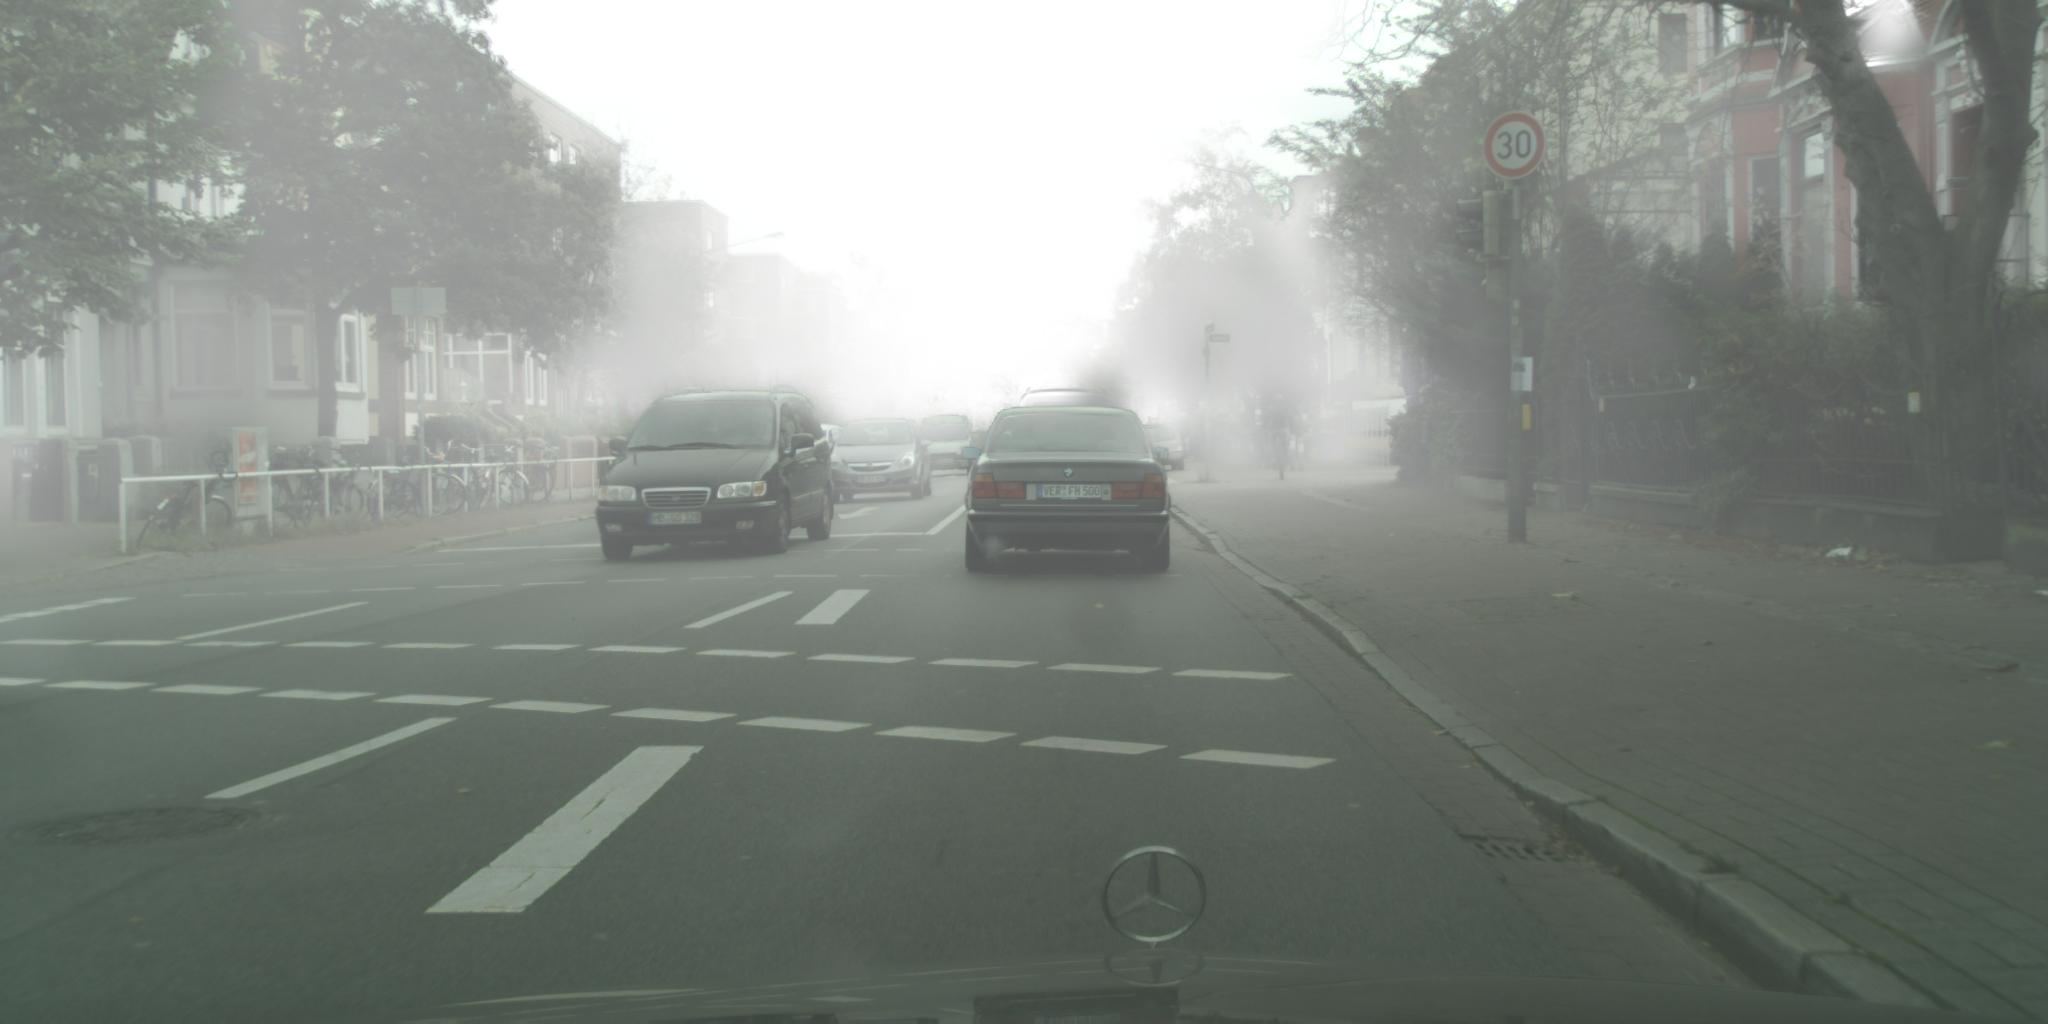bicycle: (137, 449, 239, 554)
car: (596, 387, 836, 566), (963, 408, 1173, 576), (825, 419, 934, 505), (918, 415, 982, 481), (1020, 387, 1115, 423), (1142, 426, 1185, 473), (819, 424, 849, 462), (970, 432, 993, 465)
